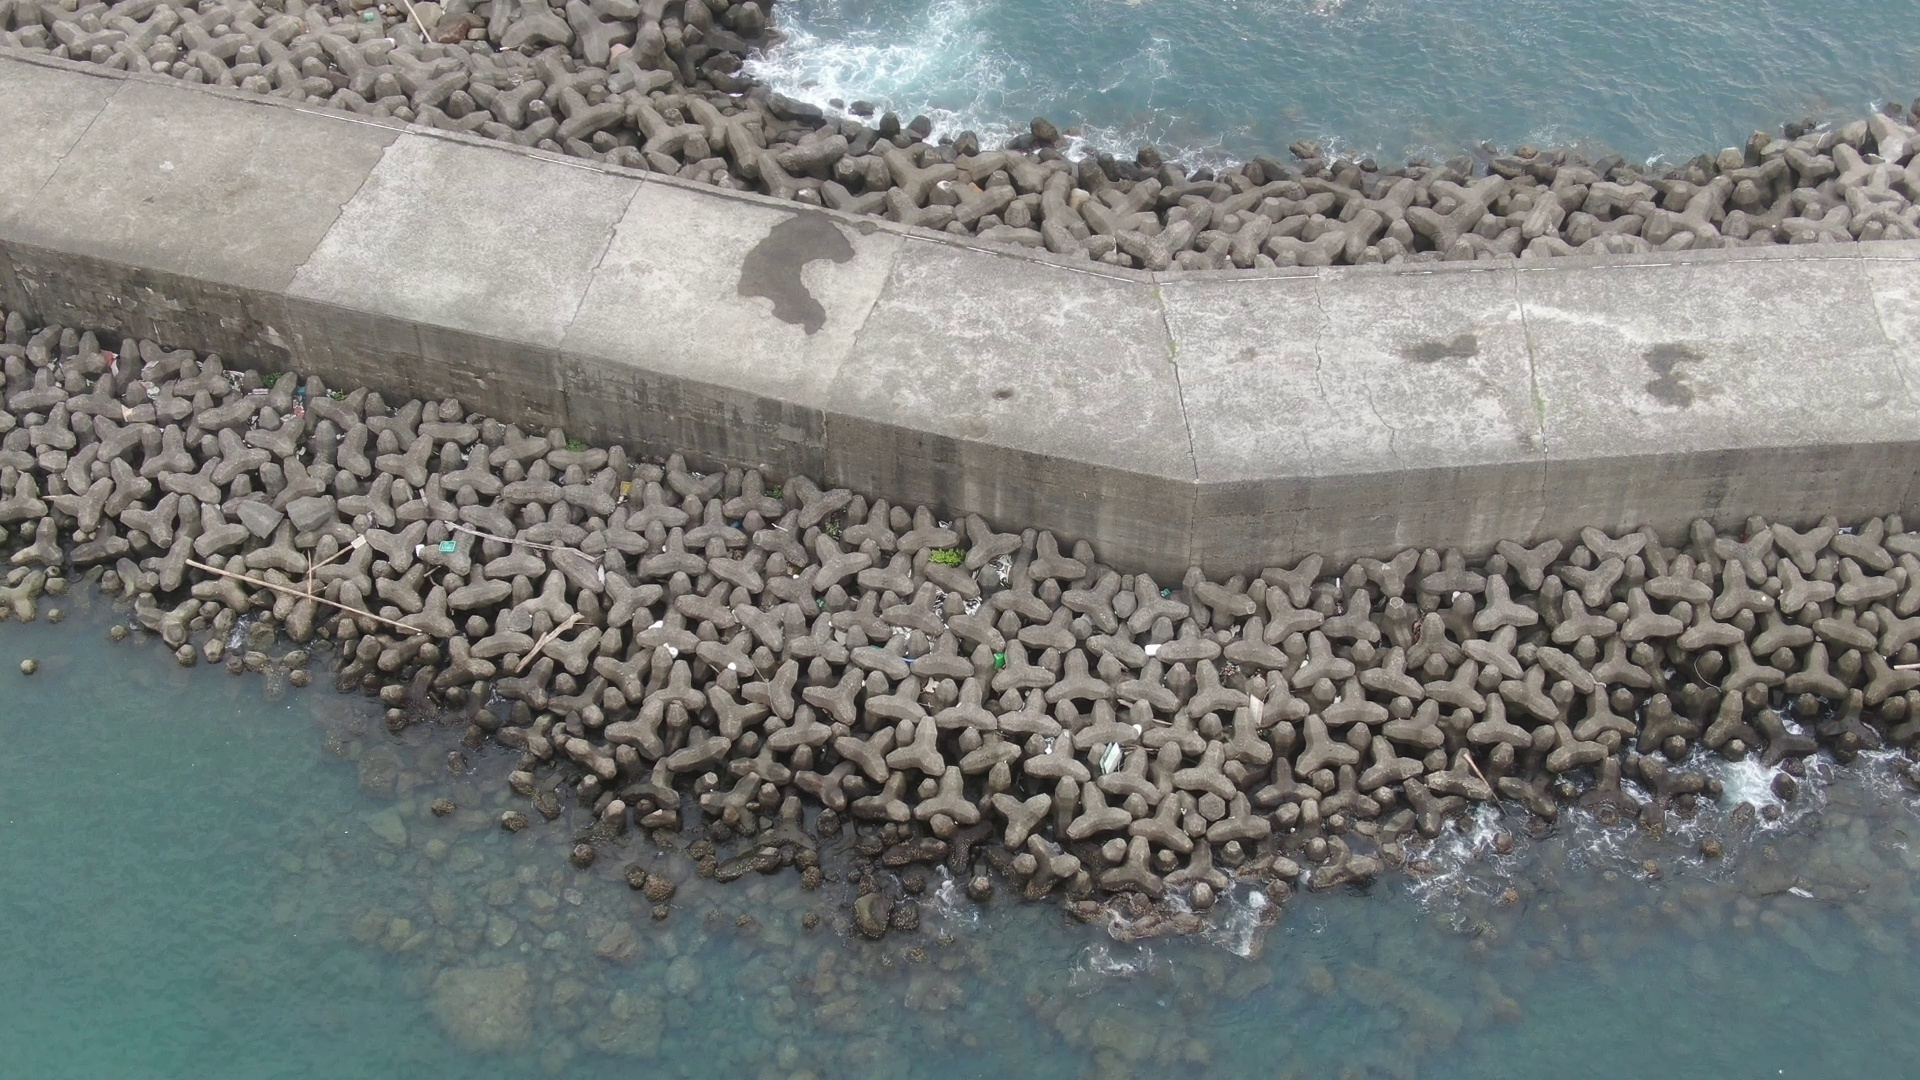garbage: (1085, 731, 1139, 785), (976, 640, 1019, 680), (429, 535, 471, 555)
